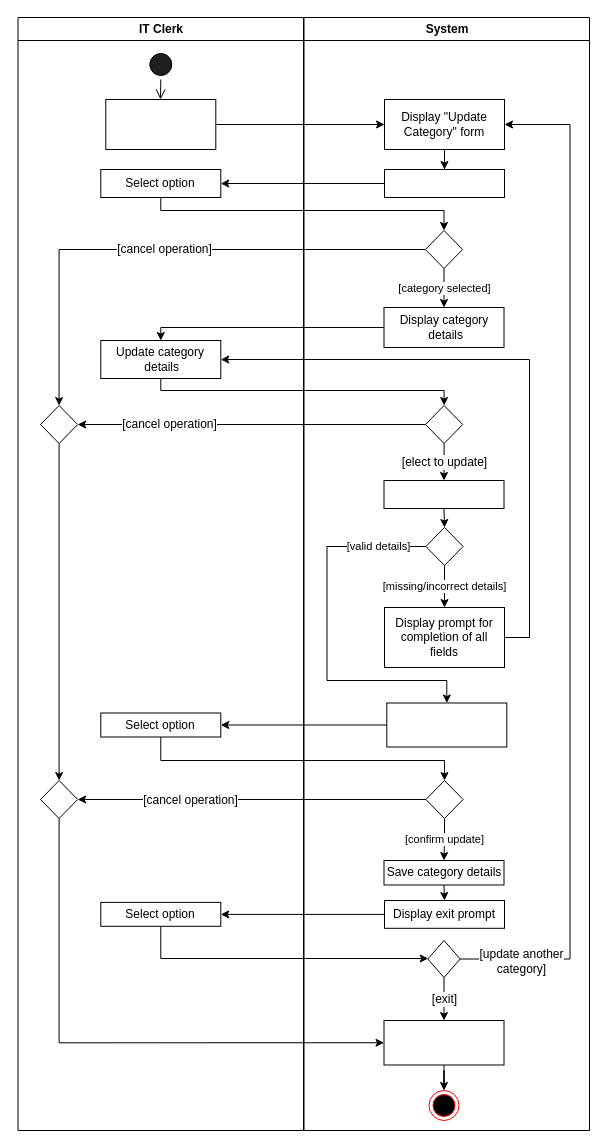
Some shapes in this 607 by 1148 pixel diagram are drawn without their labels. Each missing label, with the centre of its shape:
Close "Update Category" form: (443,1042)
Display prompt for confirmation: (446,724)
List all categories: (444,183)
Select "Update Category" option: (160,124)
Validate details: (443,494)
